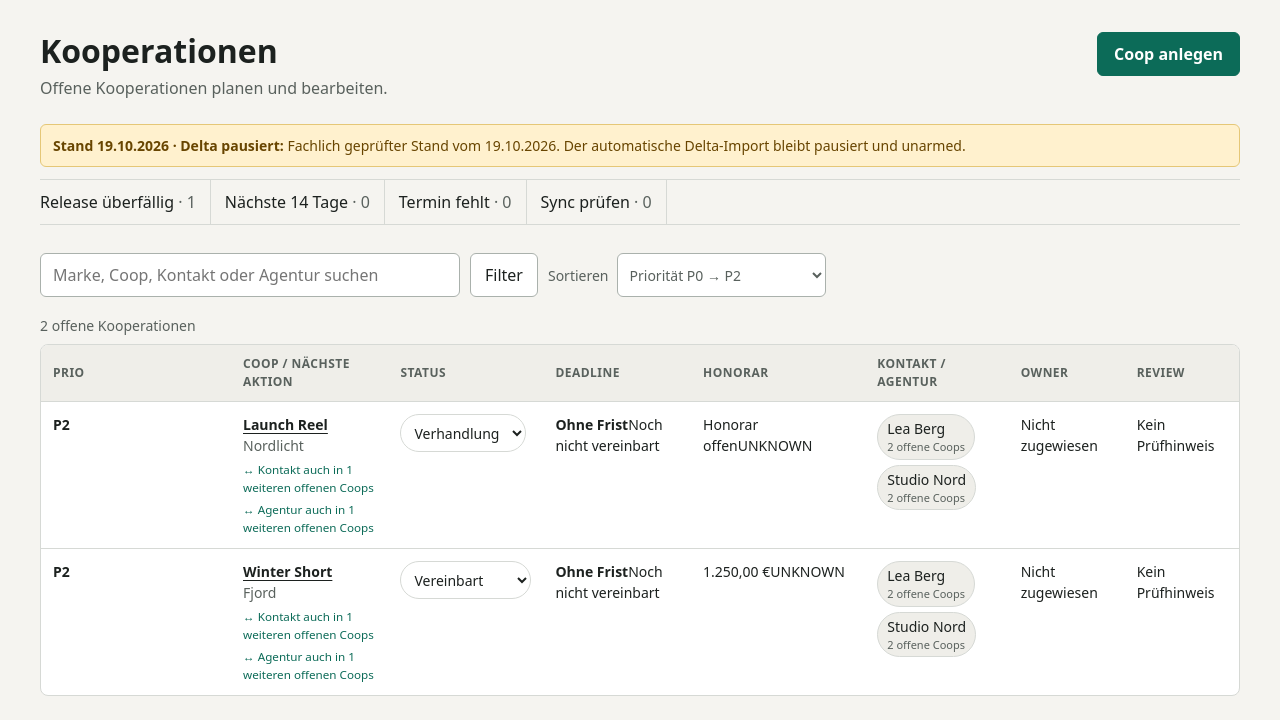
Test: CoopWorkspace › sendet Statusänderungen mit expected_version und zeigt Konflikte verständlich
The width and height of the screenshot is (1280, 720).
Select "In Klärung" in the dropdown named "Status für Launch Reel ändern" at (463, 433), box [400,414,526,452]
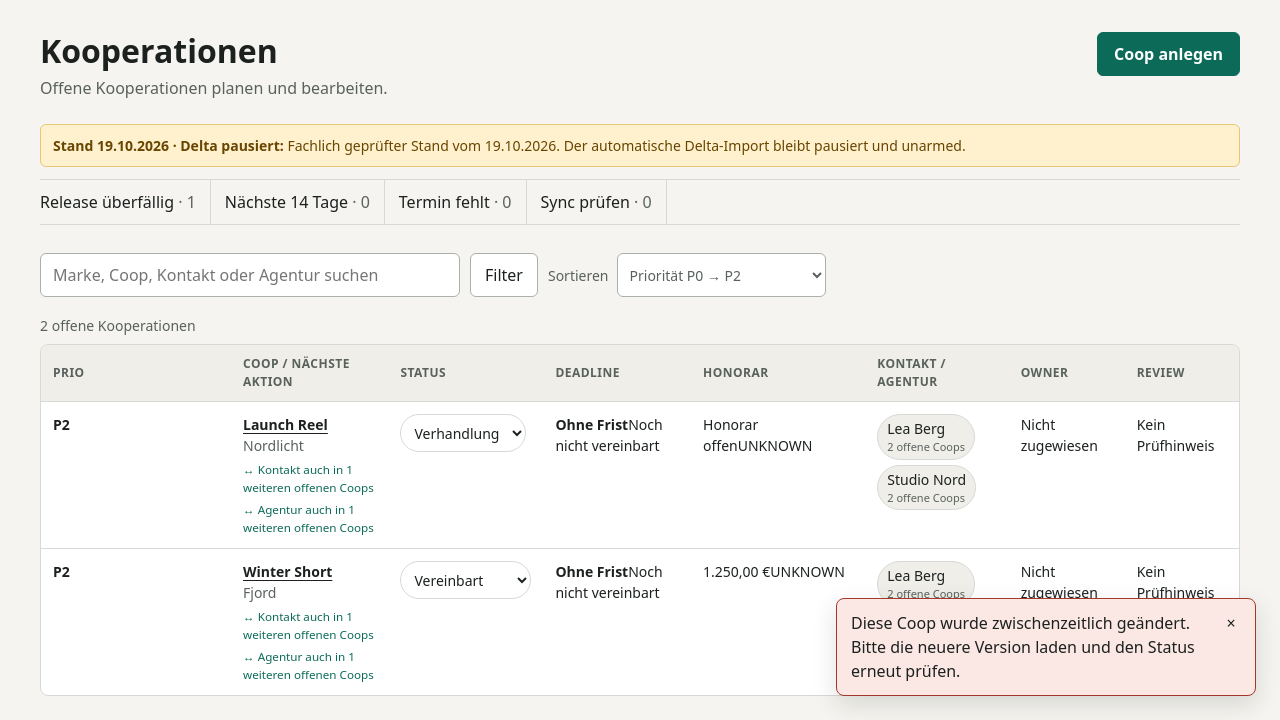
expect the message shows "zwischenzeitlich geändert": met, box [851,612,1195,682]
